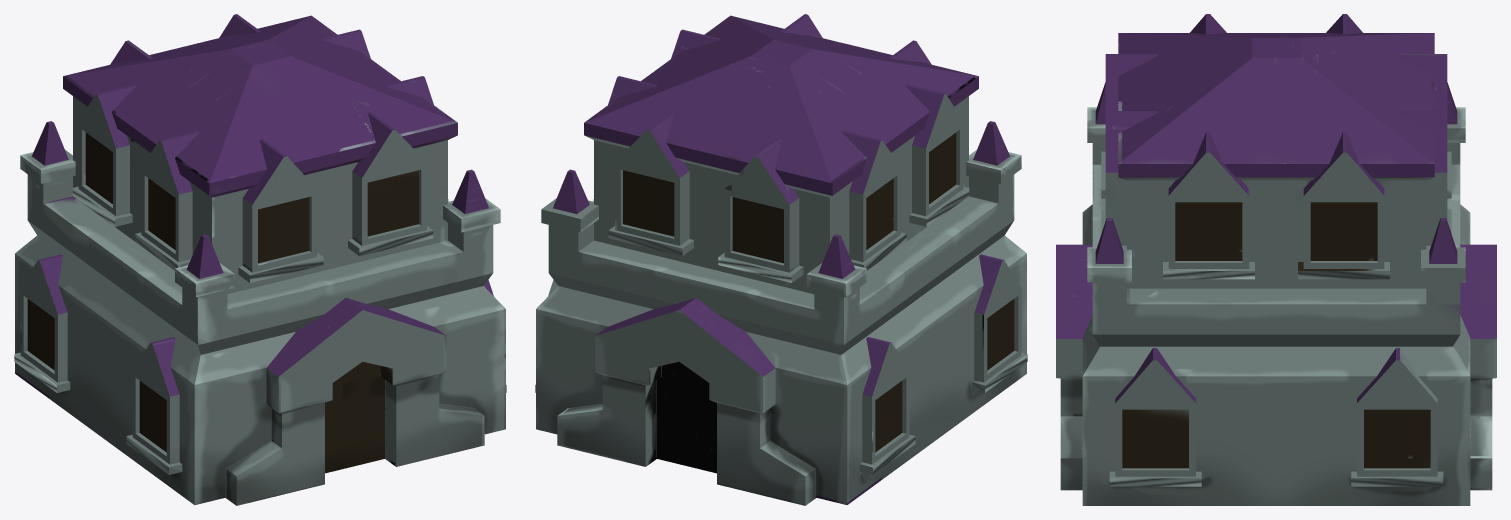
Rendered from building.fbx.
3 renders of one model, left to right at view 1: azimuth 30°, elevation 25°; view 2: azimuth 150°, elevation 25°; view 3: azimuth 270°, elevation 25°, orthographic. The views are drawn at different scales.
Parts seen in each view (by area): view 1: Building; view 2: Building; view 3: Building.
Part boxes in pixels (bbox=[...]): Building: bbox=[14, 14, 506, 505]; Building: bbox=[535, 14, 1027, 505]; Building: bbox=[1056, 14, 1496, 505].
Bounding box in the file's own units: 23891 × 23668 × 25061.
